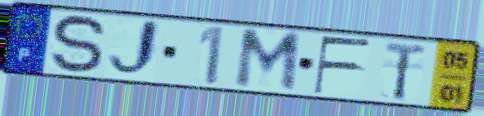1: (197, 24, 226, 87)
F: (312, 35, 375, 97)
J: (105, 17, 163, 81)
M: (232, 27, 304, 95)
S: (50, 13, 109, 76)
T: (382, 40, 429, 102)
